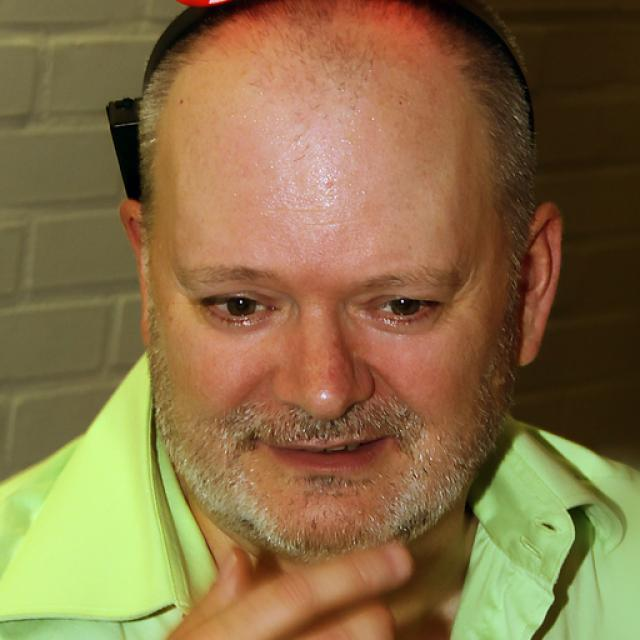anger: (157, 95, 508, 555)
